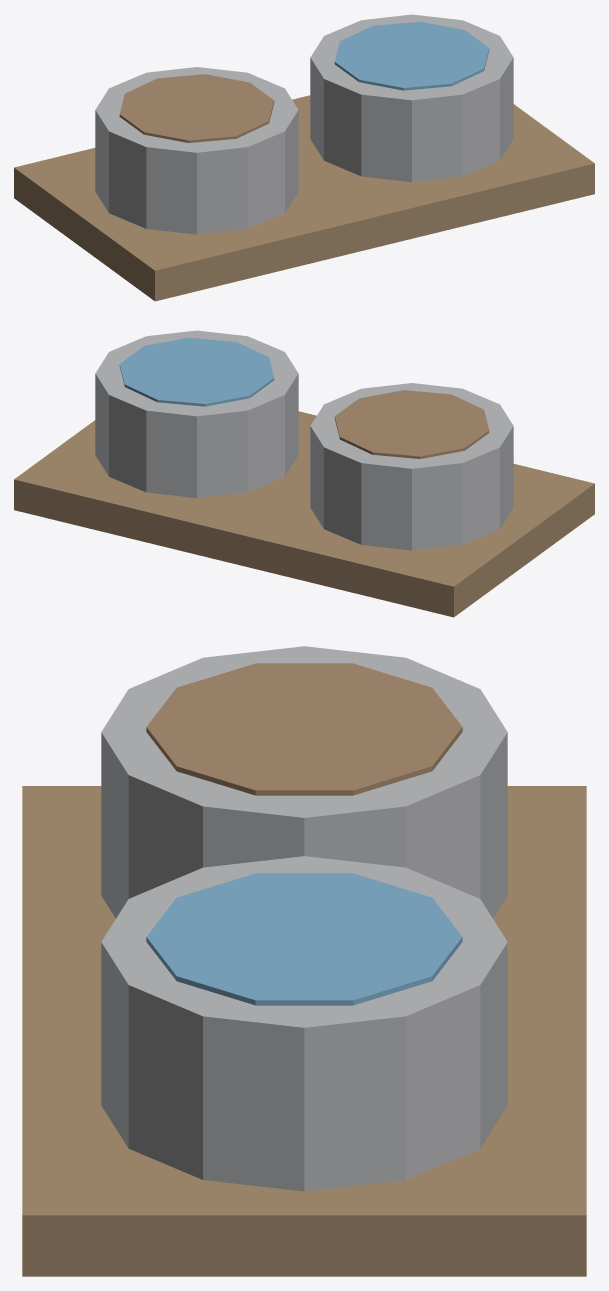
Rendered from pets_comedouro.glb.
3 views of the same model, one above another, from view 1: azimuth 30°, elevation 25°; view 2: azimuth 150°, elevation 25°; view 3: azimuth 270°, elevation 25° (orthographic). The views are drawn at different scales.
Parts seen in each view (by area): view 1: PETS_COMEDOURO_v01; view 2: PETS_COMEDOURO_v01; view 3: PETS_COMEDOURO_v01.
Boxes of the visible parts, bbox=[...] form: PETS_COMEDOURO_v01: bbox=[14, 14, 594, 301]; PETS_COMEDOURO_v01: bbox=[14, 330, 594, 617]; PETS_COMEDOURO_v01: bbox=[22, 646, 586, 1276].
Size of the model in its own units: 0.45 by 0.1125 by 0.25.
